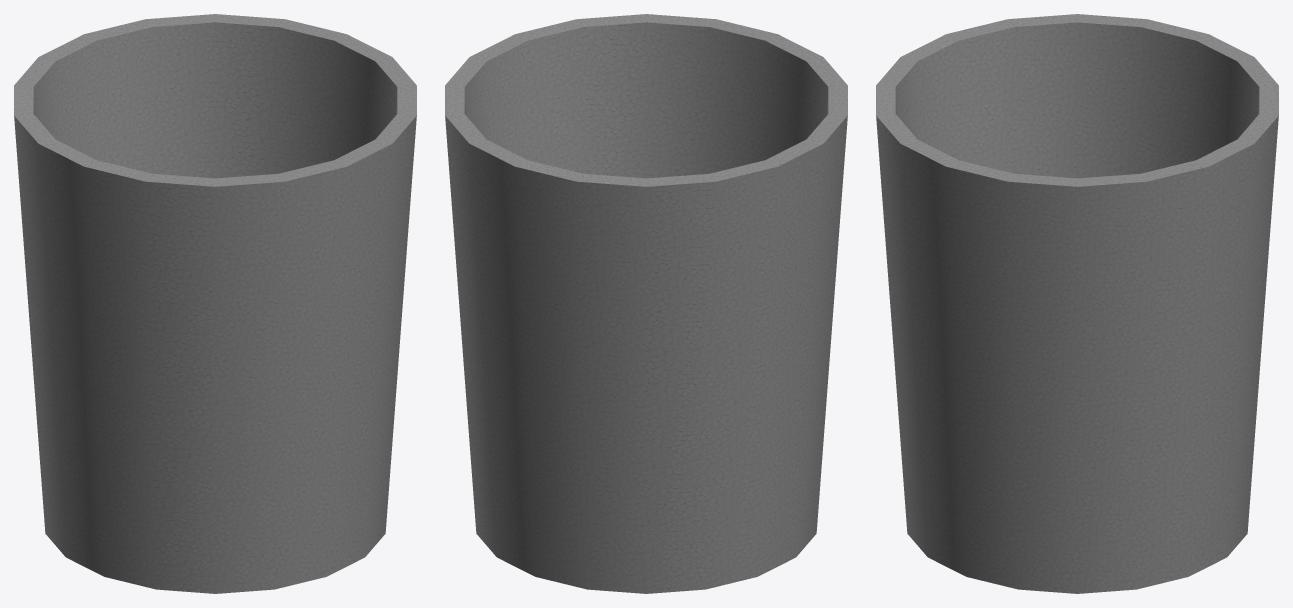
File: water_glass_empty.DAE
The picture shows the model from 3 angles, left to right: view 1: azimuth 30°, elevation 25°; view 2: azimuth 150°, elevation 25°; view 3: azimuth 270°, elevation 25°; orthographic projection.
Visible parts, largest first — view 1: Cylinder006; view 2: Cylinder006; view 3: Cylinder006.
Part boxes in pixels (x1,y1,x2,y2): Cylinder006: (14,14,416,593); Cylinder006: (445,14,847,593); Cylinder006: (876,14,1278,593).
Bounding box in the file's own units: 0.1206 × 0.1368 × 0.1188.
